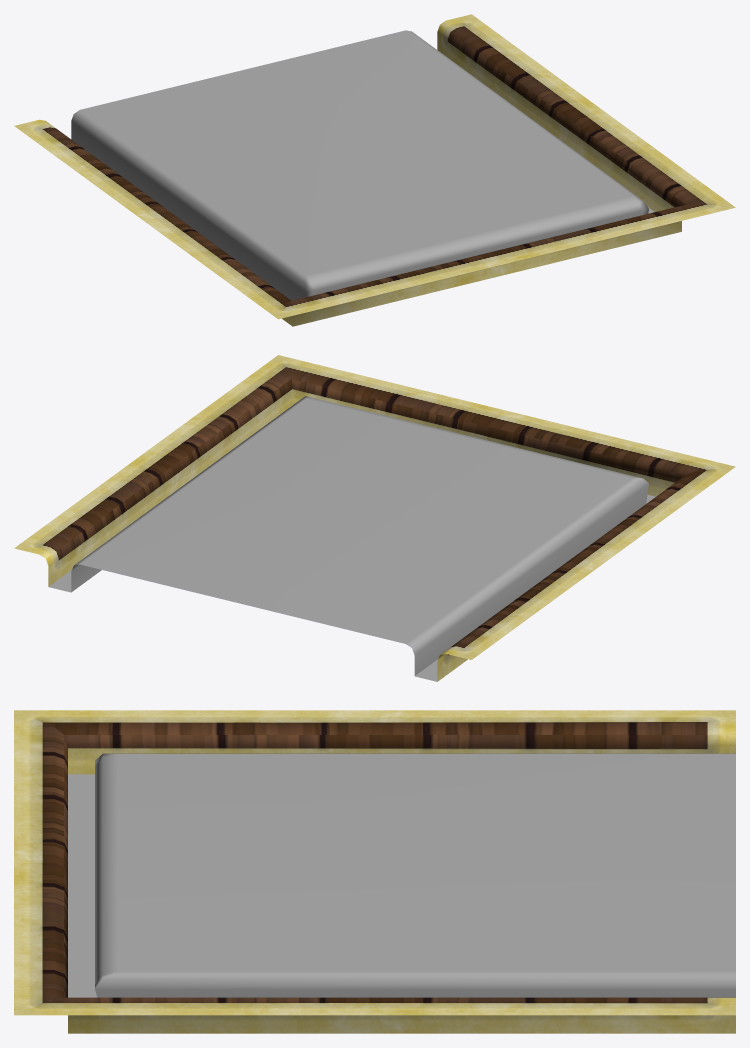
File: Env_Cnt_Conveyor_End.fbx
3 views of the same model, one above another, from view 1: azimuth 30°, elevation 25°; view 2: azimuth 150°, elevation 25°; view 3: azimuth 270°, elevation 25° (orthographic). The views are drawn at different scales.
Visible parts, largest first — view 1: Conveyor_End; view 2: Conveyor_End; view 3: Conveyor_End.
Boxes of the visible parts, bbox=[...] form: Conveyor_End: bbox=[14, 14, 735, 326]; Conveyor_End: bbox=[14, 355, 735, 681]; Conveyor_End: bbox=[14, 710, 735, 1033].
Bounding box in the file's own units: 100 × 6.31 × 100.
